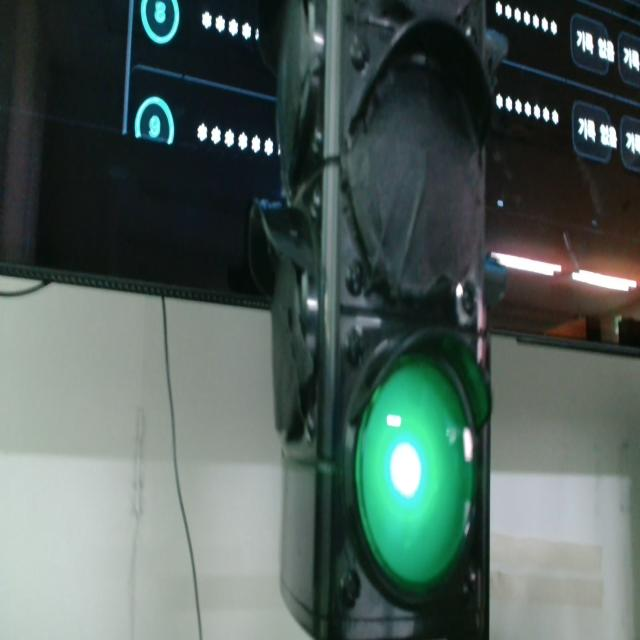green_light: (356, 357, 473, 591)
